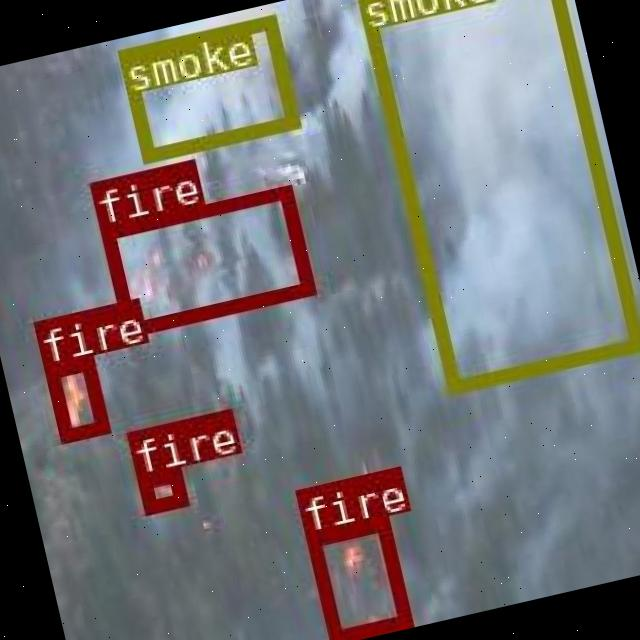fire: (96, 183, 311, 334), (305, 516, 407, 640), (42, 355, 105, 440), (134, 465, 186, 512)
smoke: (353, 0, 640, 392), (115, 13, 297, 162)
